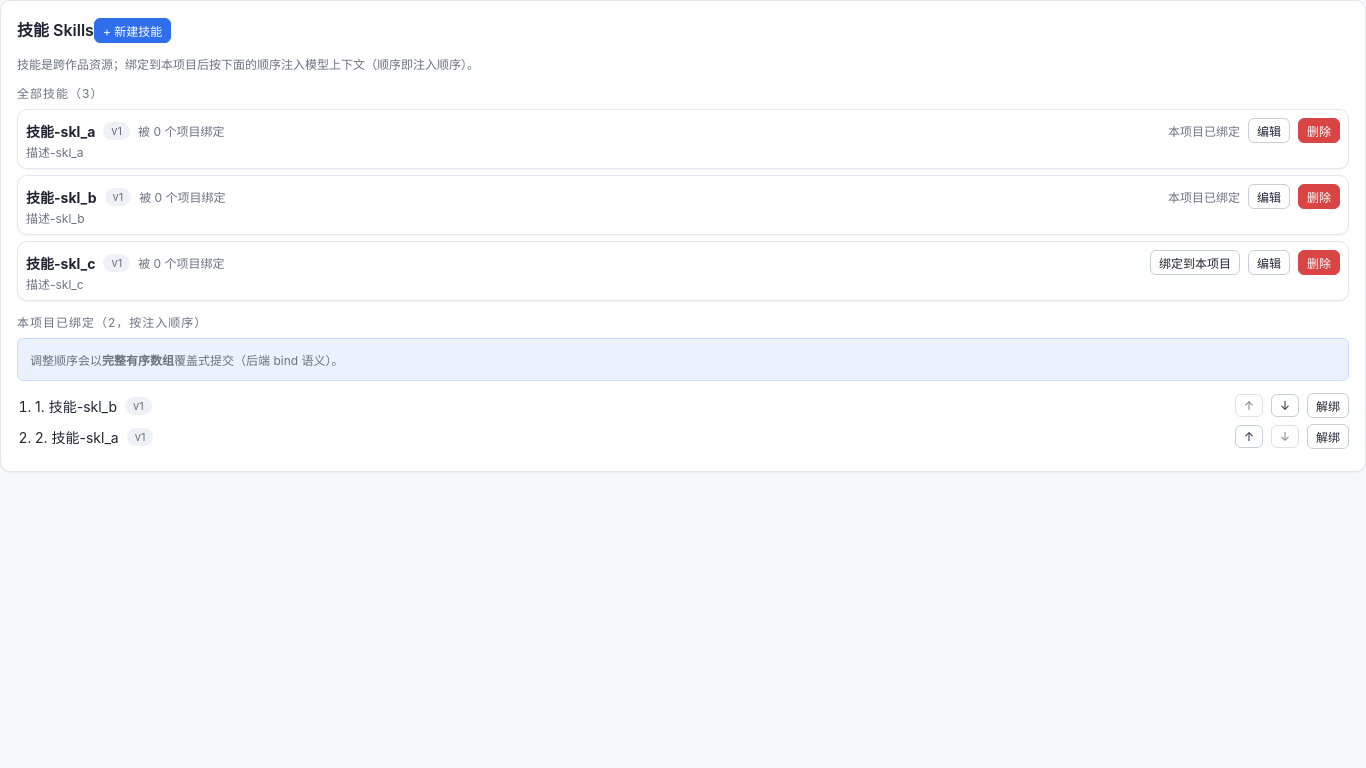
Scenario: SkillsPanel（C-45③） › 新建技能：非法 JSON ⇒ 就地报错且不创建
Click the button with test id "skill-create-btn": (133, 30) top-left (94, 18), bottom-right (171, 43)
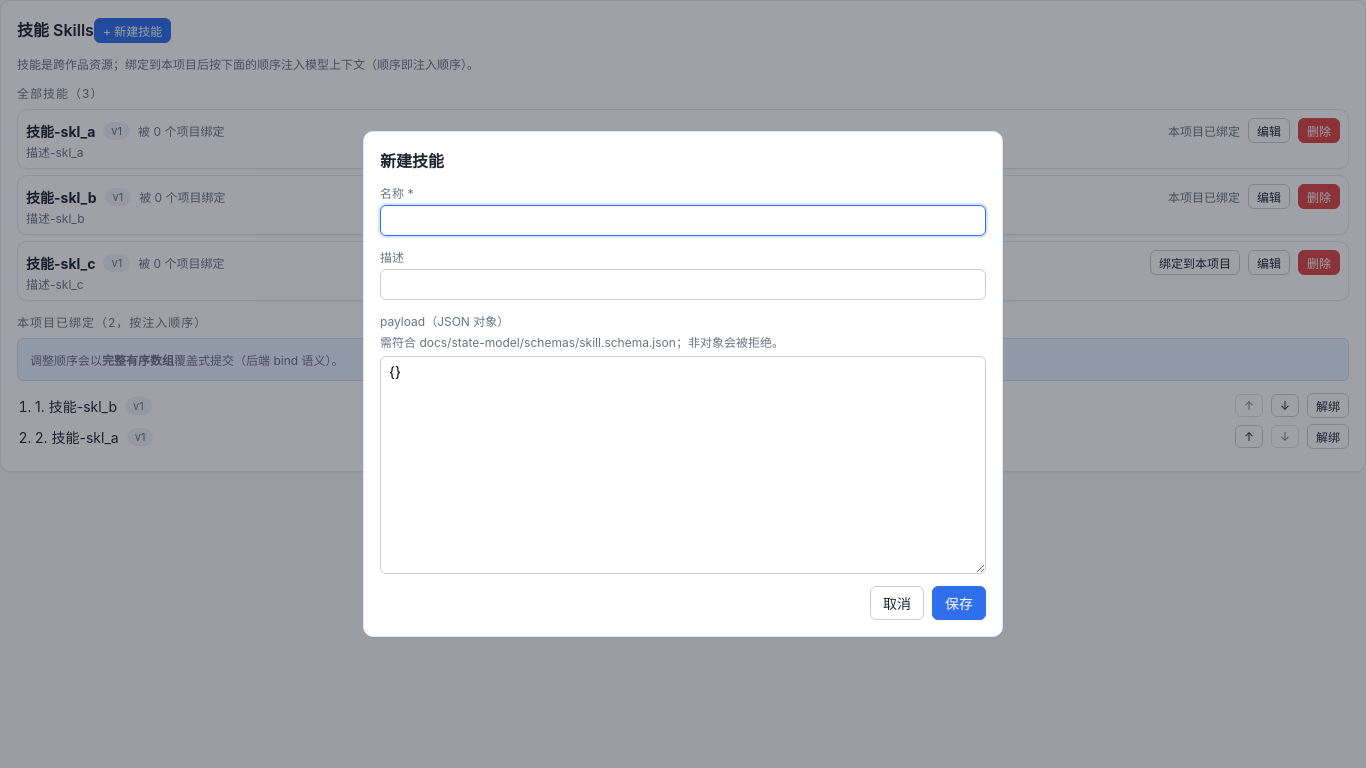
In the field with test id "skill-form-name": (683, 220) top-left (380, 205), bottom-right (986, 236), type "坏技能"
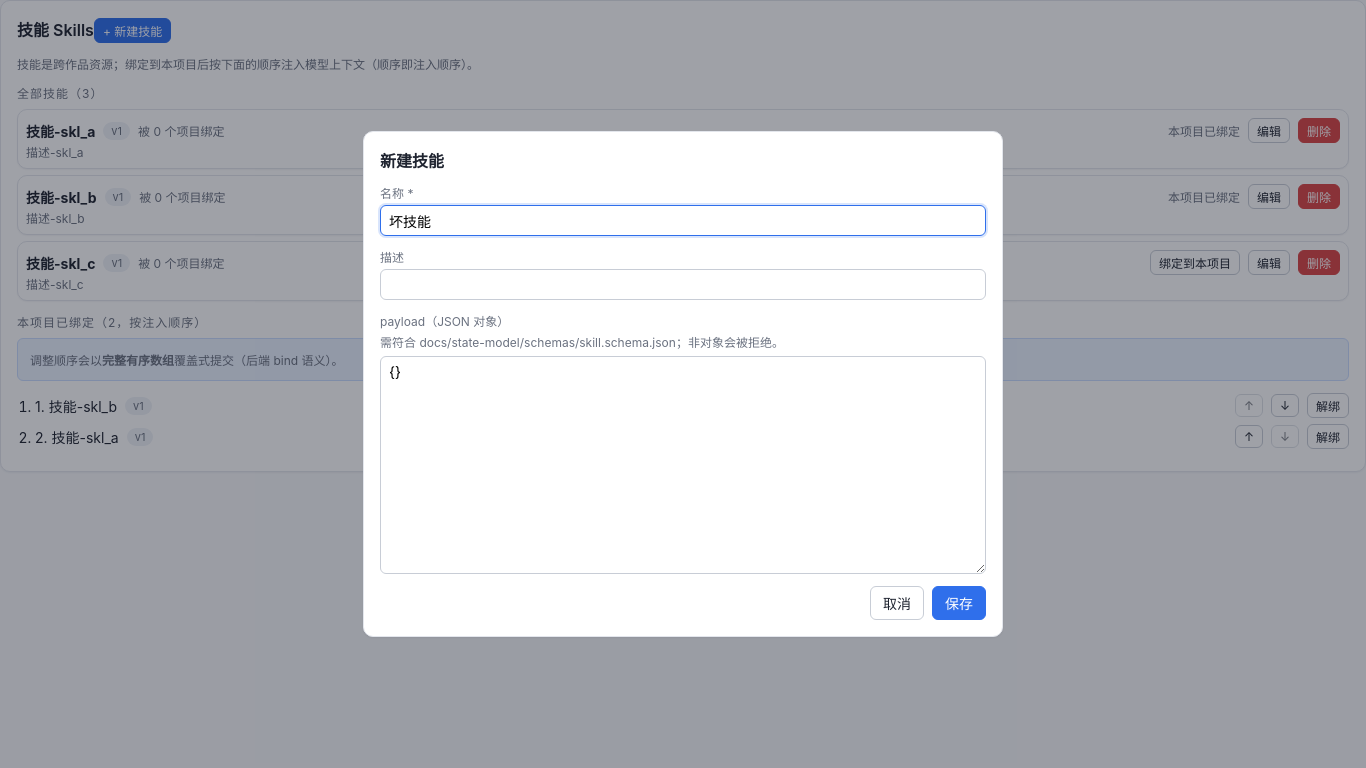
Replace the text in the text box with test id "skill-form-payload" with "[1,2]": (683, 465) top-left (380, 356), bottom-right (986, 574)
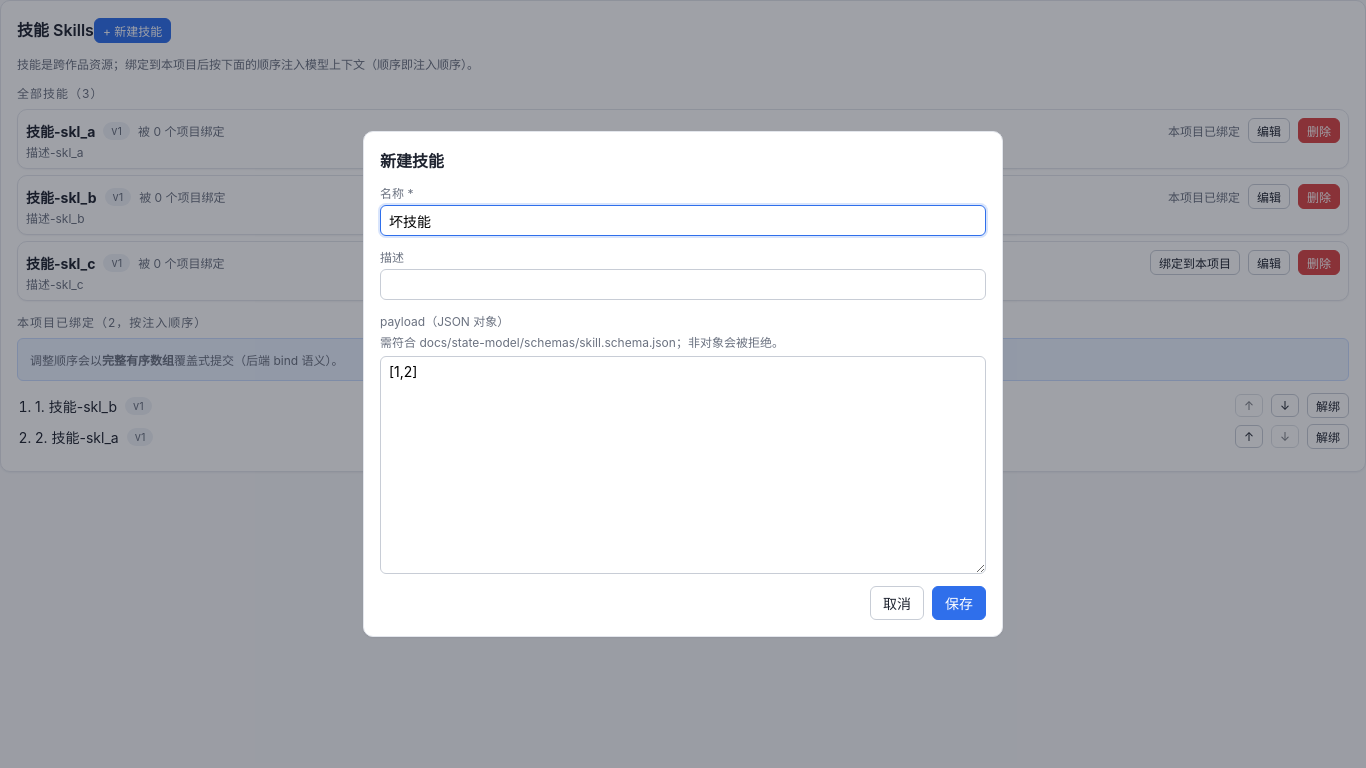
Click the button with test id "skill-form-save": (959, 603) top-left (932, 586), bottom-right (986, 620)
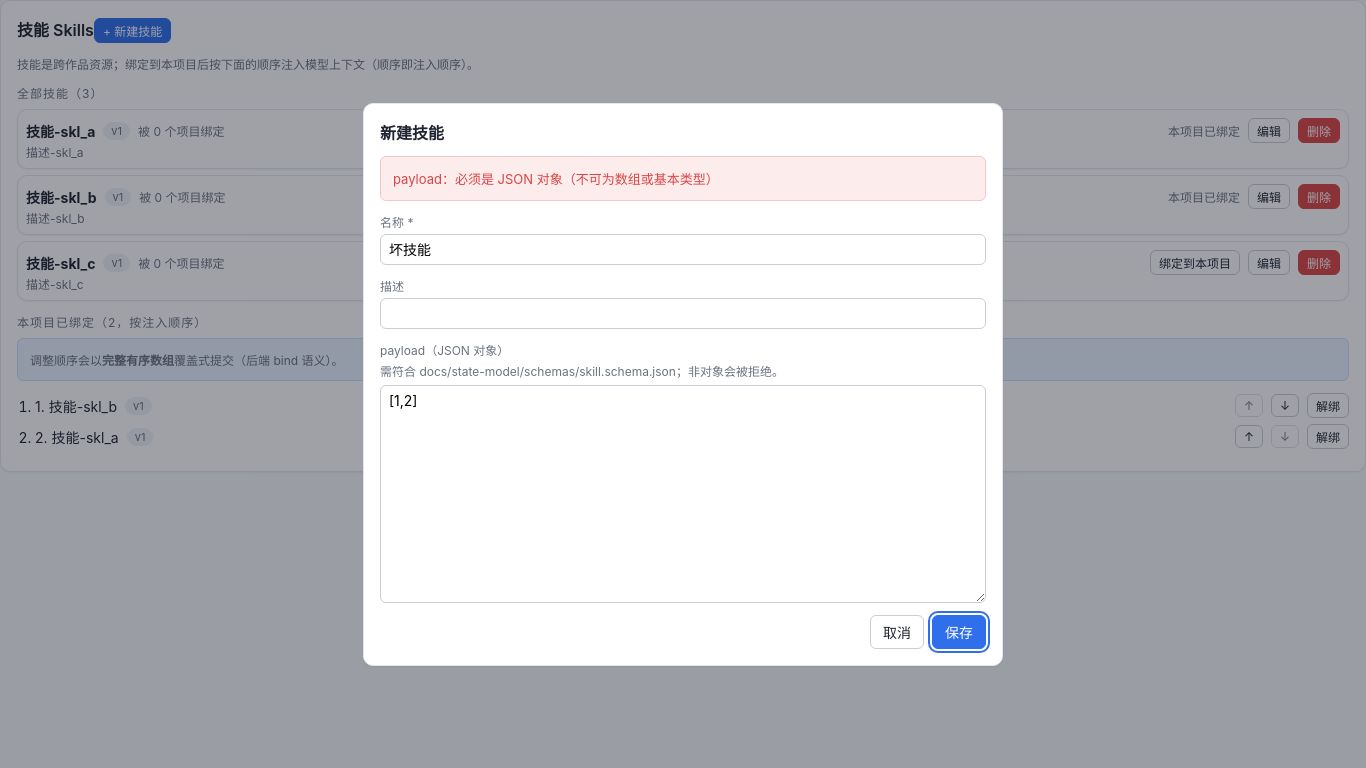
Result: the text "payload：必须是 JSON 对象（不可为数组或基本类型）" is shown at top-left (380, 156), bottom-right (986, 200)
